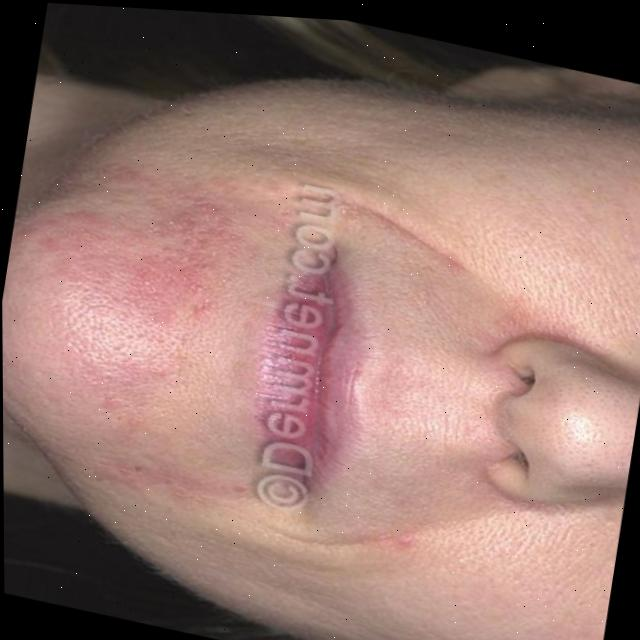Rosacea: (1, 125, 259, 488)
